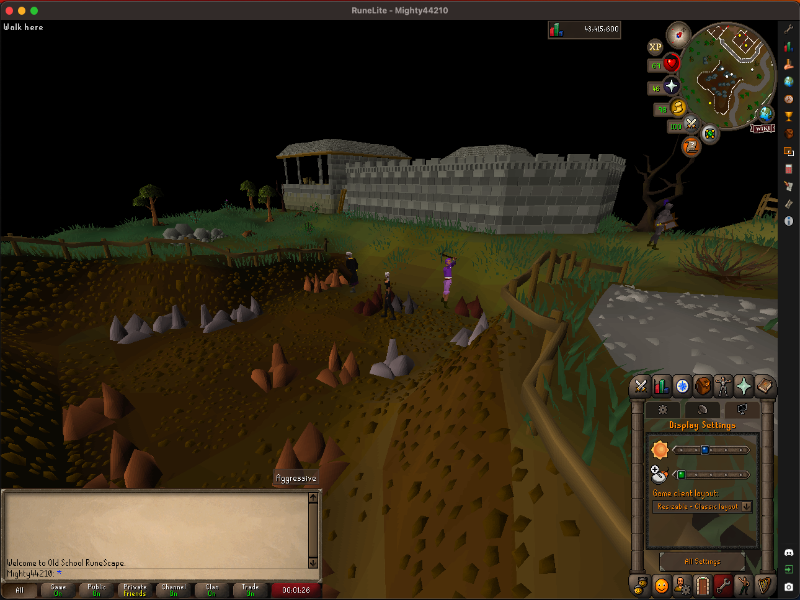iron: (454, 299, 481, 315), (356, 301, 377, 315), (375, 286, 384, 297)
